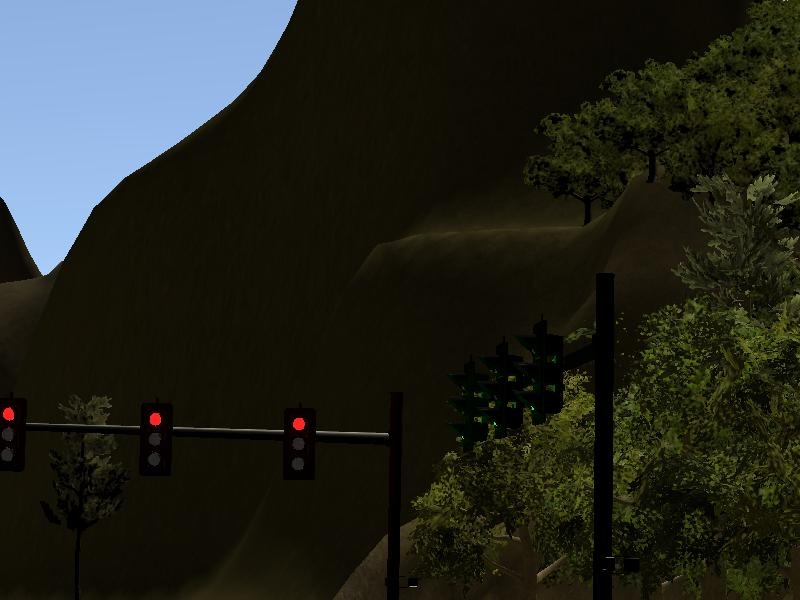RED: (140, 403, 169, 475), (284, 405, 313, 477), (1, 401, 24, 470)
